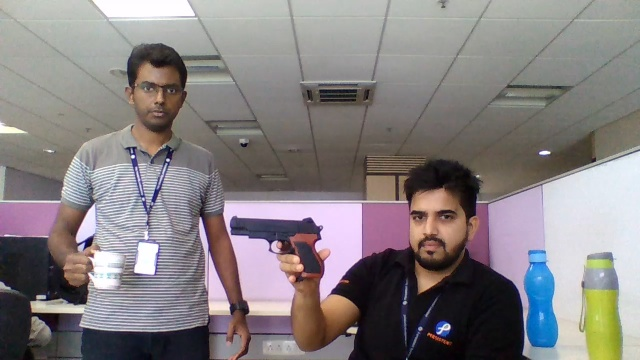gun: (230, 215, 322, 257)
